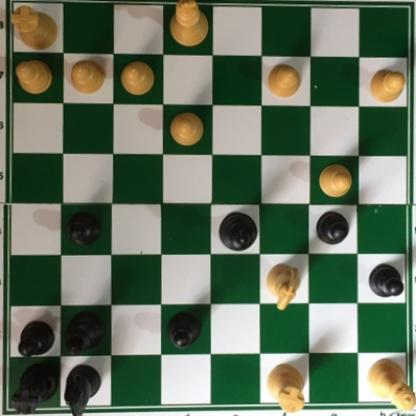black-bishop: (67, 312, 110, 359)
black-king: (217, 210, 259, 252)
black-knight: (62, 362, 102, 415)
black-pawn: (16, 321, 56, 360), (368, 263, 407, 299), (168, 311, 204, 350), (315, 211, 351, 247), (68, 211, 103, 247)
black-rook: (13, 361, 59, 415)
white-king: (169, 0, 211, 48)
white-knight: (266, 262, 304, 318)
white-pawn: (367, 67, 407, 110), (15, 57, 58, 96), (169, 110, 207, 147), (266, 64, 305, 100), (70, 58, 106, 95), (120, 61, 156, 96), (319, 163, 354, 198)
white-queen: (367, 359, 415, 415)
white-rook: (10, 5, 62, 54), (268, 361, 311, 414)
